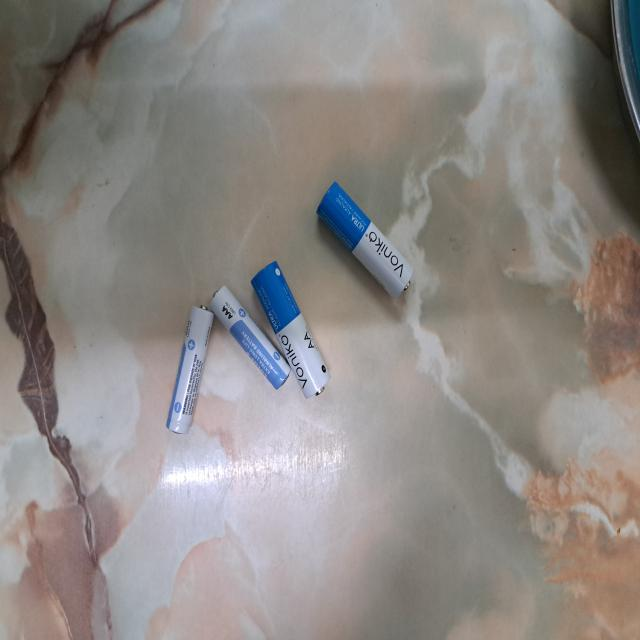battery: (316, 181, 414, 299), (250, 259, 332, 398), (211, 285, 292, 390), (166, 302, 216, 437)
